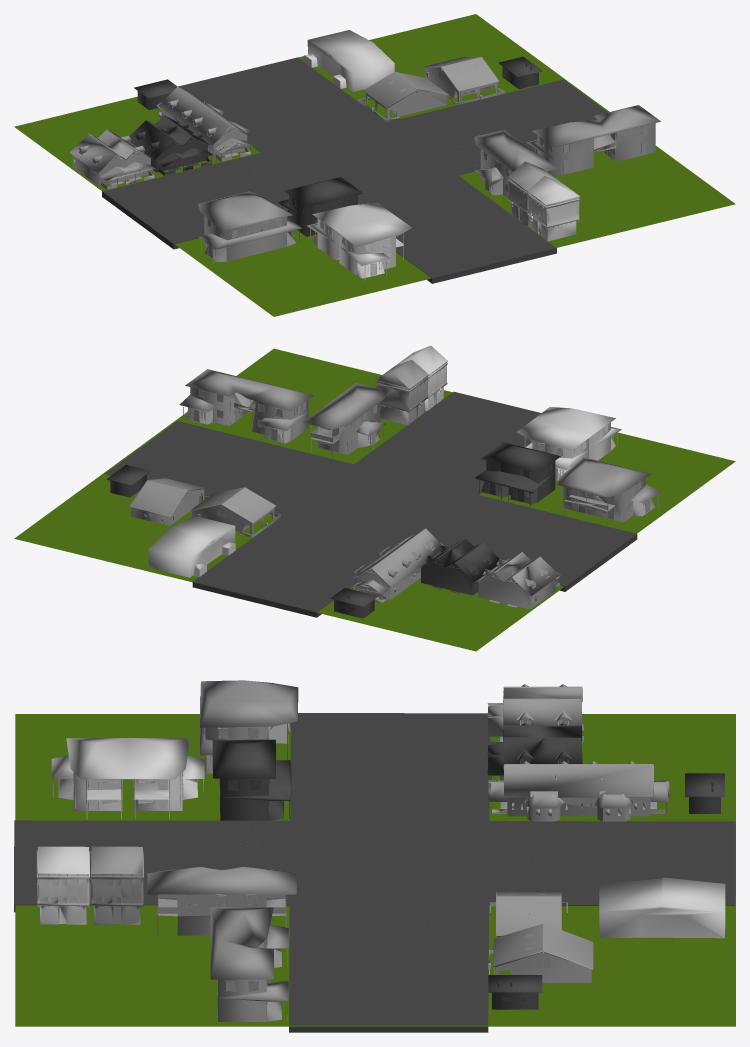
File: Street_environment_V02.obj
3 views of the same model, one above another, from view 1: azimuth 30°, elevation 25°; view 2: azimuth 150°, elevation 25°; view 3: azimuth 270°, elevation 25° (orthographic). The views are drawn at different scales.
Visible parts, largest first — view 1: Line002, Plane001, City_building_026, City_building_022, City_building_038, City_building_007, City_building_004, City_building_014, City_building_032, City_building_001, City_building_034, City_building_035 (+5 smaller); view 2: Line002, Plane001, City_building_026, City_building_038, City_building_022, City_building_034, City_building_007, City_building_037, City_building_014, City_building_004, City_building_032, City_building_028 (+5 smaller); view 3: Line002, Plane001, City_building_022, City_building_014, City_building_026, City_building_007, City_building_034, City_building_038, City_building_037, City_building_041, City_building_028, City_building_035 (+5 smaller).
Part boxes in pixels (x1,y1,x2,y2): Line002: (102, 57, 607, 283); Plane001: (14, 14, 735, 316); City_building_026: (526, 105, 660, 176); City_building_022: (306, 203, 411, 280); City_building_038: (198, 191, 302, 263); City_building_007: (304, 30, 394, 91); City_building_004: (69, 129, 155, 189); City_building_014: (156, 86, 252, 161); City_building_032: (129, 115, 213, 175); City_building_001: (358, 71, 448, 122); City_building_034: (474, 130, 557, 198); City_building_035: (527, 175, 580, 241); Line002: (105, 391, 637, 617); Plane001: (14, 348, 735, 651); City_building_026: (179, 369, 313, 445); City_building_038: (557, 457, 661, 525); City_building_022: (516, 406, 621, 480); City_building_034: (303, 383, 386, 458); City_building_007: (148, 516, 235, 577); City_building_037: (475, 442, 560, 506); City_building_014: (351, 528, 443, 603); City_building_004: (476, 552, 561, 609); City_building_032: (419, 538, 501, 595); City_building_028: (375, 360, 428, 425); Line002: (14, 713, 735, 1032); Plane001: (15, 714, 735, 1026); City_building_022: (51, 738, 204, 819); City_building_014: (488, 761, 669, 821); City_building_026: (210, 907, 288, 1021); City_building_007: (599, 877, 725, 938); City_building_034: (147, 867, 296, 935); City_building_038: (200, 680, 298, 776); City_building_037: (212, 739, 291, 820); City_building_041: (488, 923, 593, 982); City_building_028: (90, 846, 143, 924); City_building_035: (36, 846, 89, 924).
Size of the model in its own units: 96.86 by 10.92 by 94.37.
